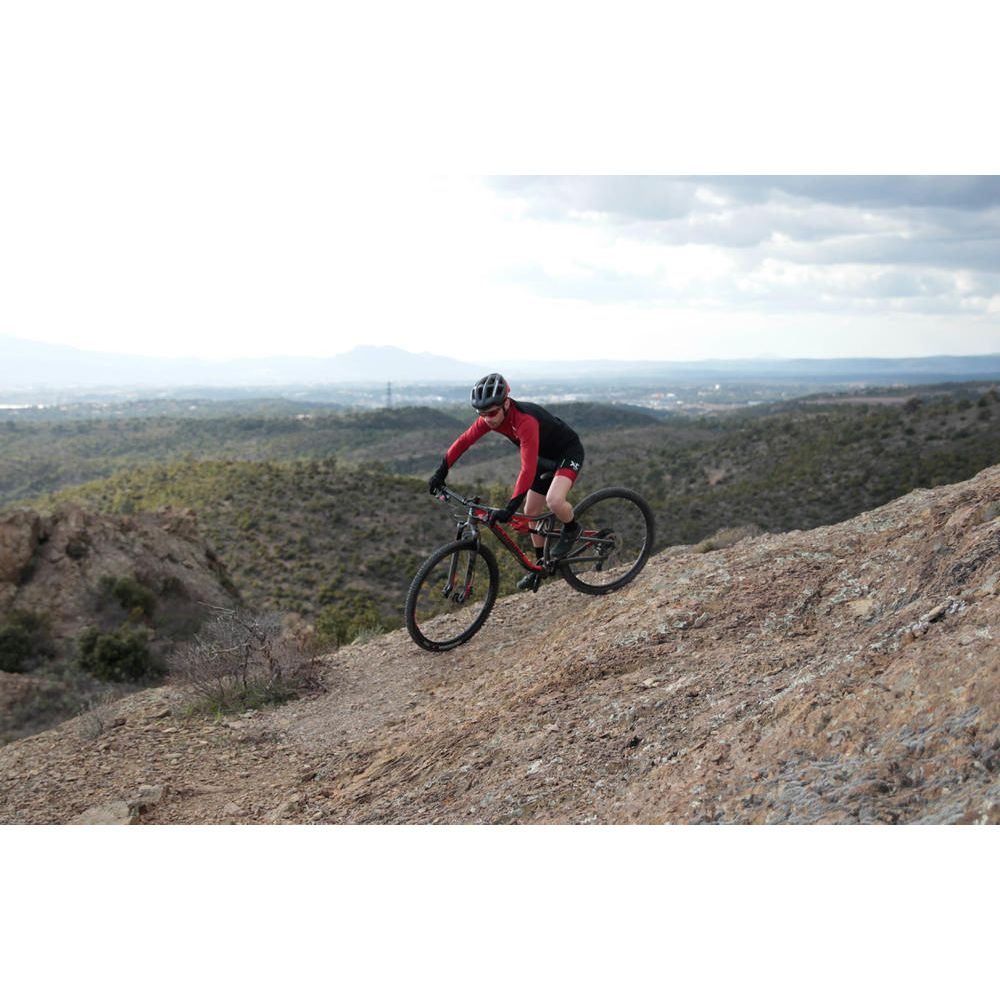RoadBike: (250, 538, 595, 758), (535, 517, 865, 736)
